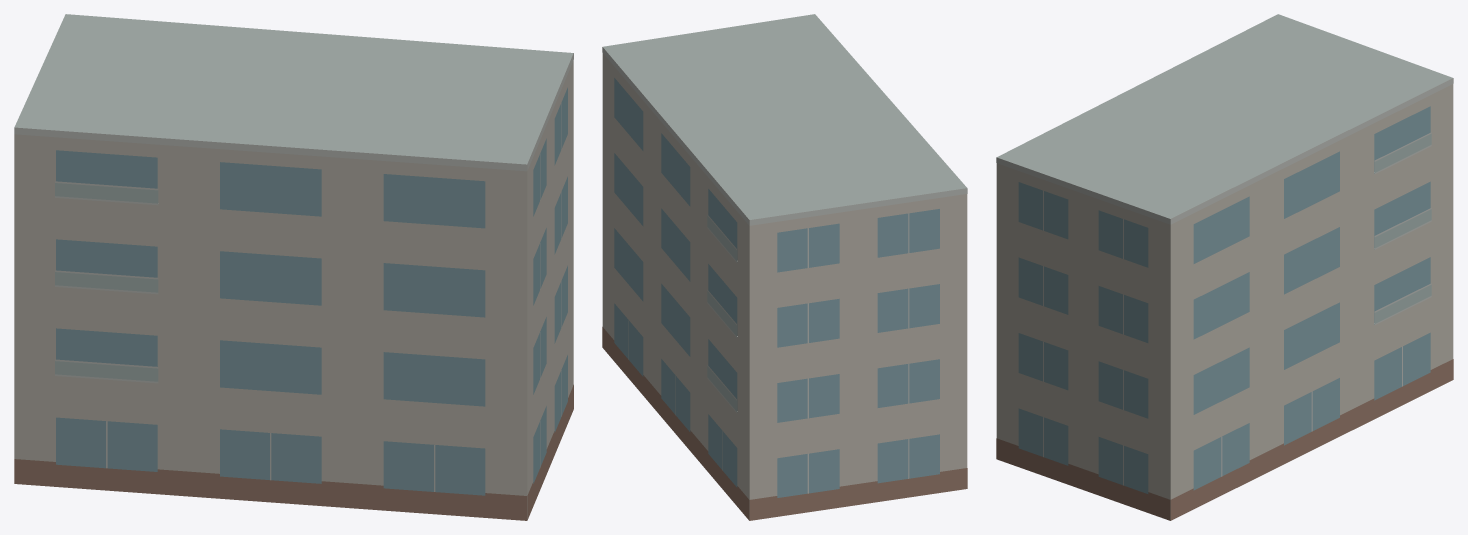
Rendered from survey-upis-32657964.glb.
The picture shows the model from 3 angles, left to right: view 1: azimuth 30°, elevation 25°; view 2: azimuth 150°, elevation 25°; view 3: azimuth 270°, elevation 25°; orthographic projection. The views are drawn at different scales.
Parts seen in each view (by area): view 1: survey-upis-32657964.tmp; view 2: survey-upis-32657964.tmp; view 3: survey-upis-32657964.tmp.
Boxes of the visible parts, bbox=[...] form: survey-upis-32657964.tmp: bbox=[14, 14, 573, 520]; survey-upis-32657964.tmp: bbox=[602, 14, 967, 520]; survey-upis-32657964.tmp: bbox=[996, 14, 1453, 520].
Bounding box in the file's own units: 18.65 × 12.8 × 17.56.
